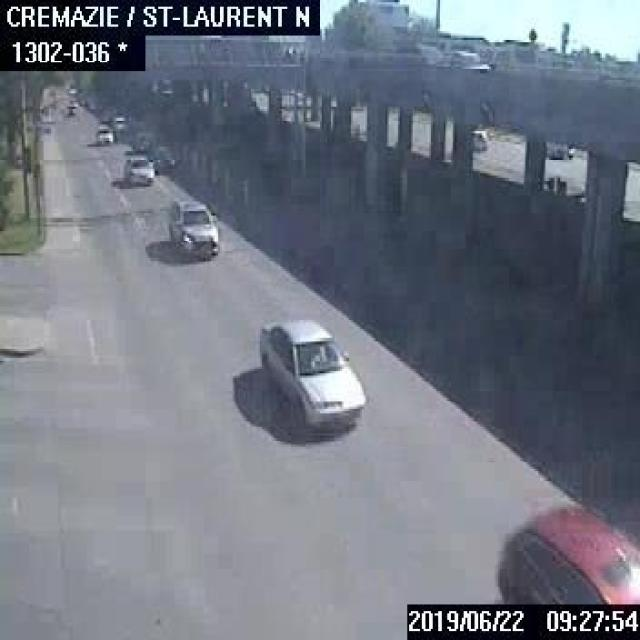construction: (222, 151, 231, 193), (240, 169, 249, 204), (209, 151, 216, 180)
vehicle: (495, 500, 638, 602), (256, 313, 366, 427), (168, 191, 216, 253), (440, 44, 489, 70), (120, 154, 153, 182), (148, 139, 178, 167), (130, 131, 154, 153), (542, 140, 571, 158), (93, 122, 115, 144), (108, 112, 129, 134), (469, 129, 487, 151), (63, 102, 76, 115)
